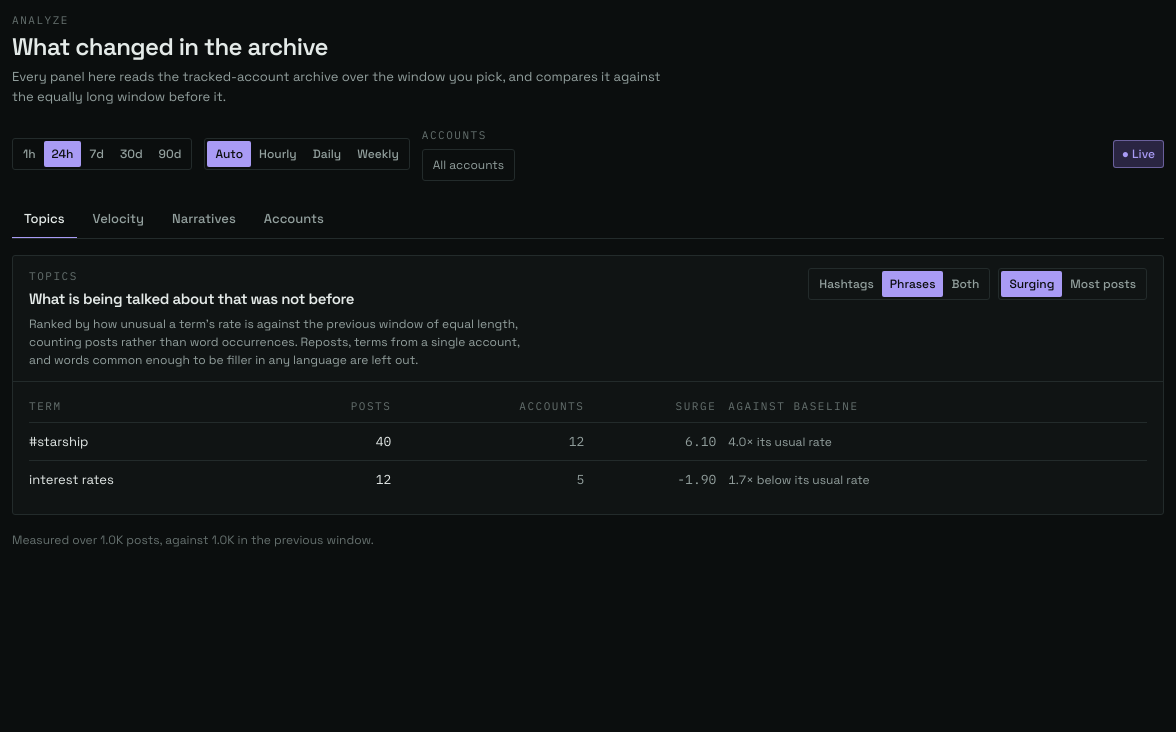
Test case: Analyze velocity › explains why the chart is empty when there are no snapshots
Click the tab "Velocity" at coordinates (118, 220), box [81,201,156,239]
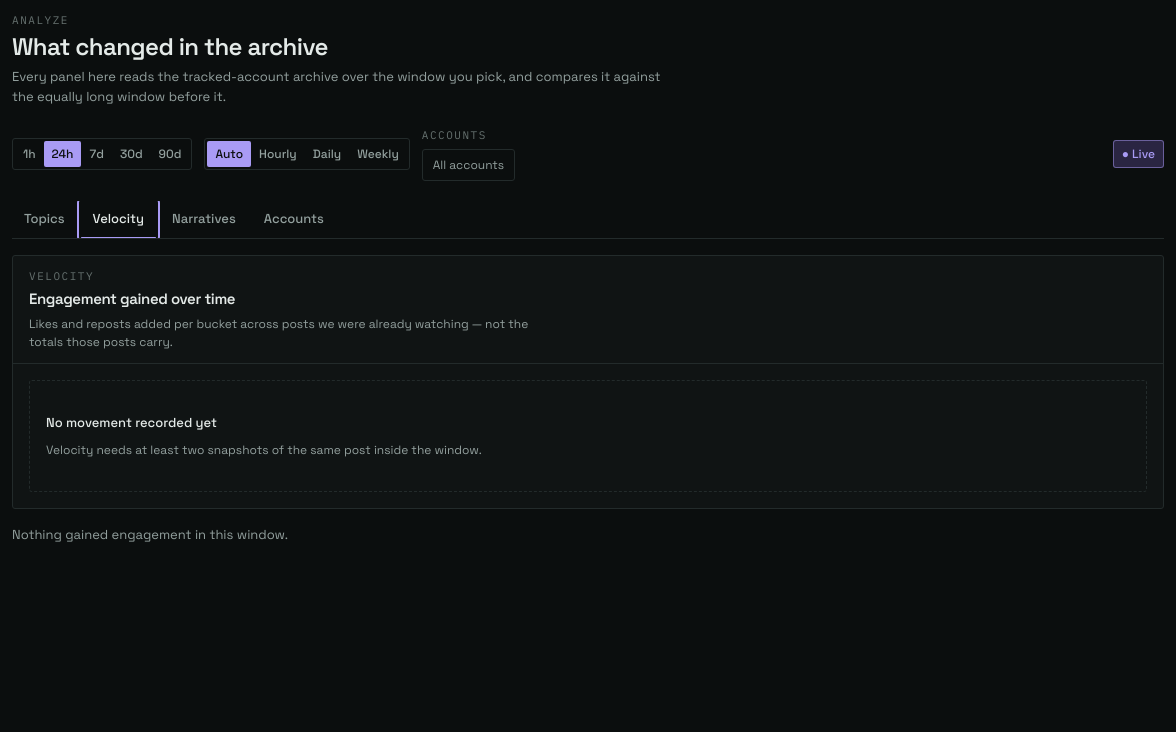
Check: the text "at least two snapshots" is shown, box [46,442,482,458]
